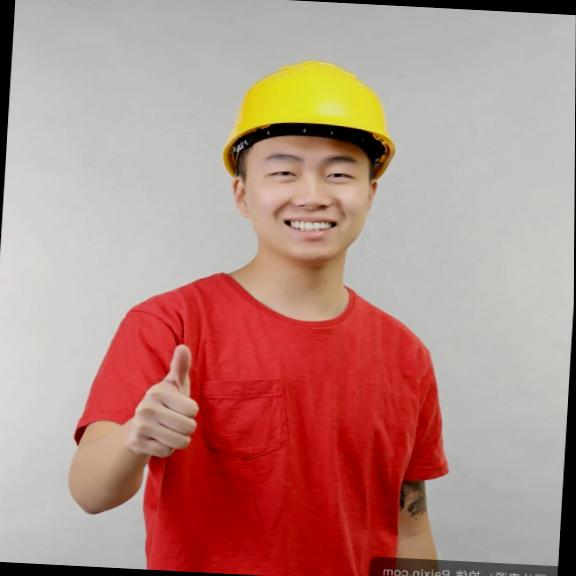no_safety_vest: (55, 258, 465, 576)
